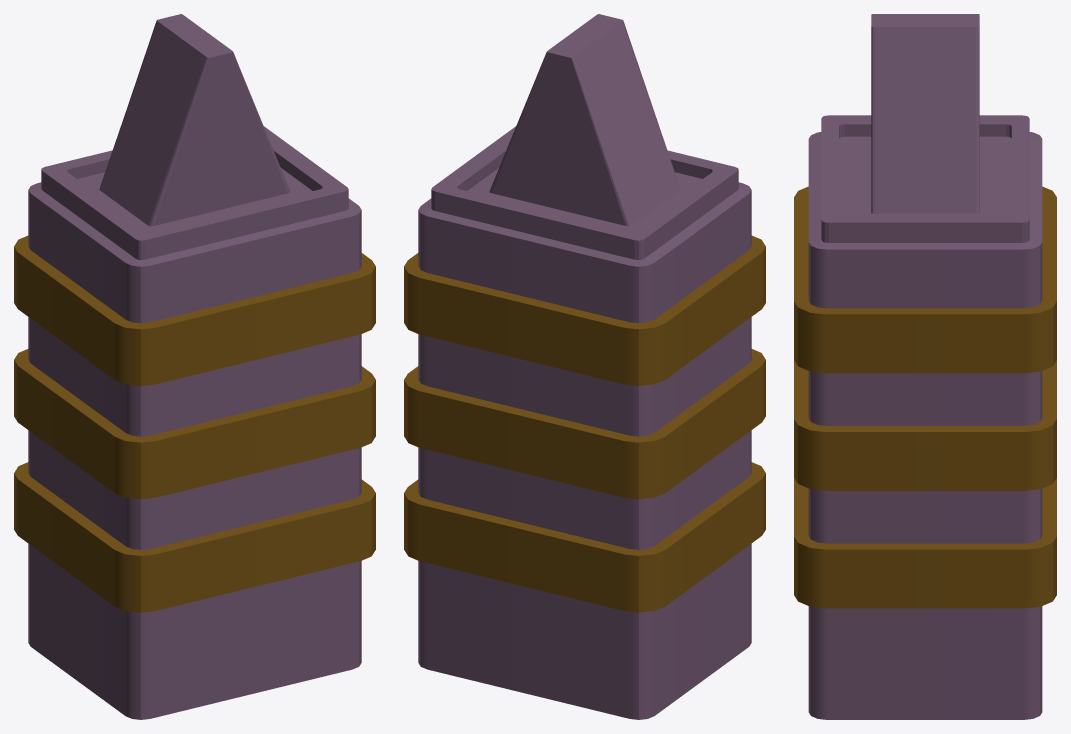
3 renders of one model, left to right at view 1: azimuth 30°, elevation 25°; view 2: azimuth 150°, elevation 25°; view 3: azimuth 270°, elevation 25°, orthographic. The views are drawn at different scales.
Visible parts, largest first — view 1: B13; view 2: B13; view 3: B13.
Boxes of the visible parts, x1,y1,x2,y2 form: B13: (14,14,375,719); B13: (404,14,765,719); B13: (794,14,1056,719).
Size of the model in its own units: 3416 by 7816 by 2907.
